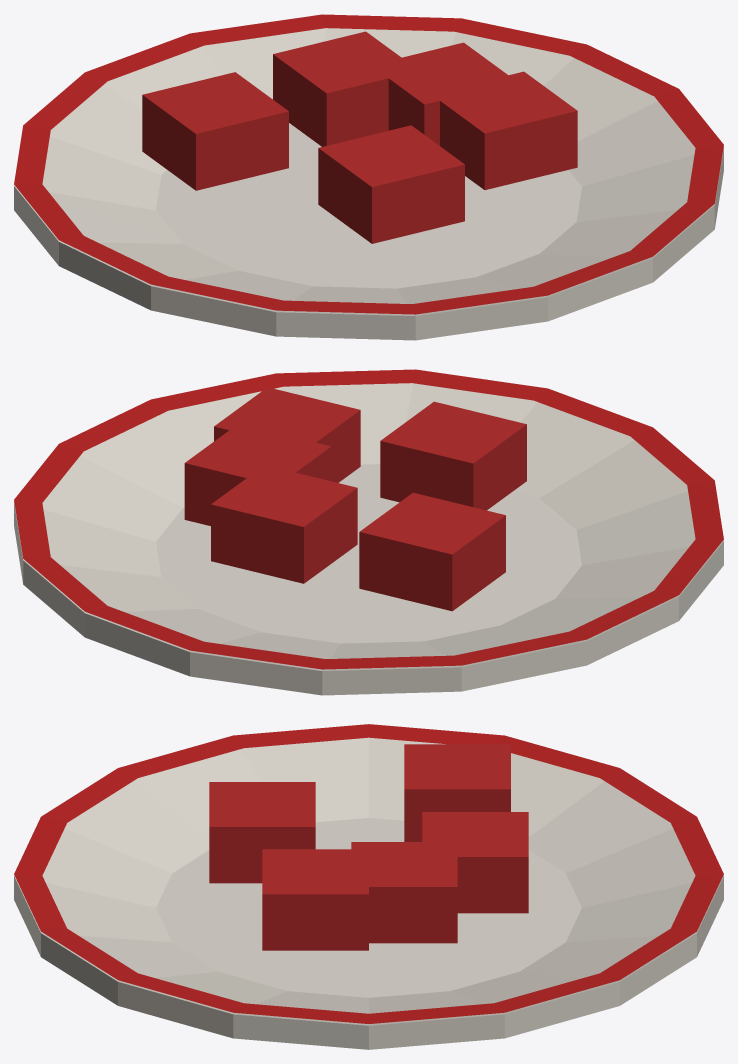
File: meat_plate.obj
The picture shows the model from 3 angles, top to bottom: view 1: azimuth 30°, elevation 25°; view 2: azimuth 150°, elevation 25°; view 3: azimuth 270°, elevation 25°; orthographic projection.
Visible parts, largest first — view 1: meat_plate; view 2: meat_plate; view 3: meat_plate.
Boxes of the visible parts, x1,y1,x2,y2 form: meat_plate: [14, 14, 723, 340]; meat_plate: [14, 369, 723, 695]; meat_plate: [14, 724, 723, 1049].
Size of the model in its own units: 0.4 by 0.07 by 0.4.
